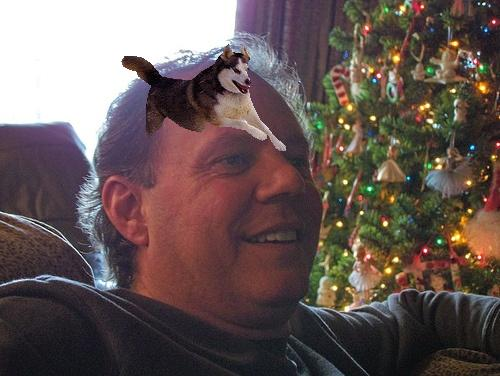tampered: (122, 45, 286, 151)
